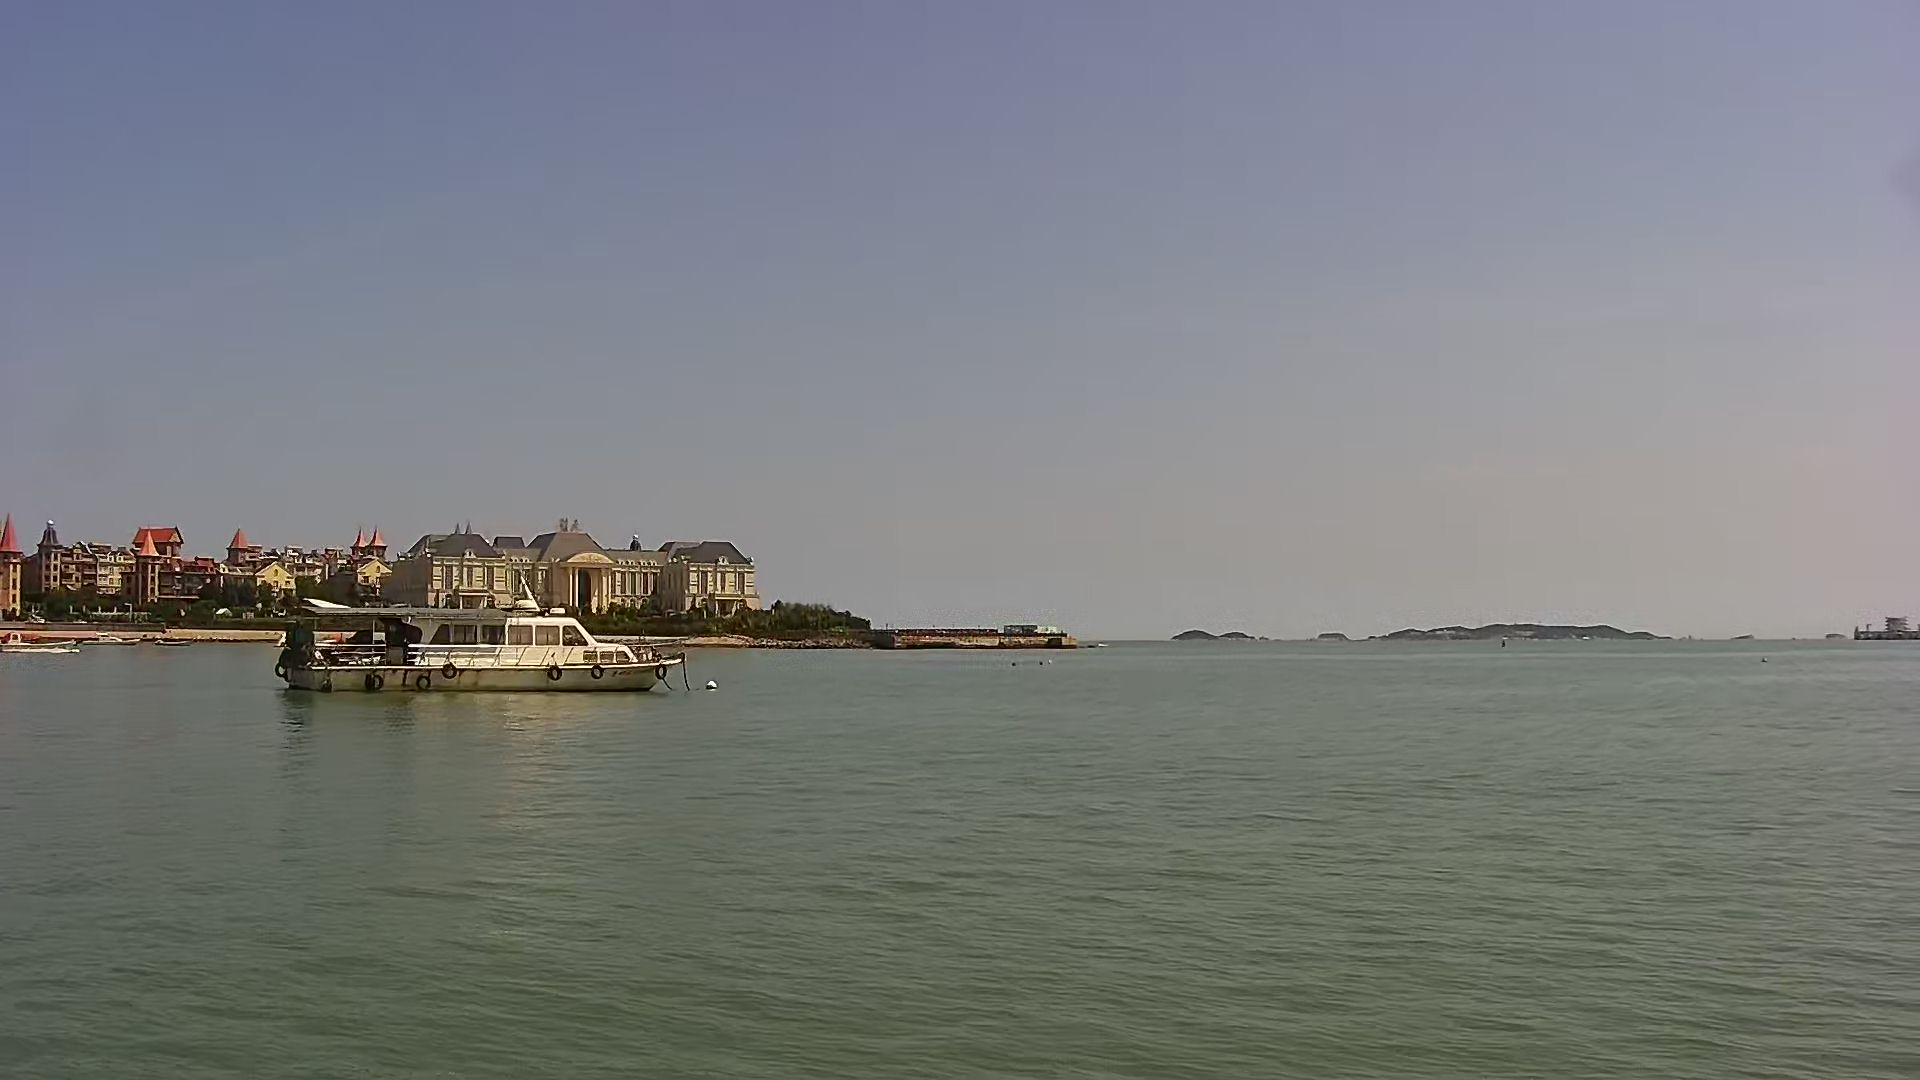ball: (703, 676, 723, 694)
boat: (1, 632, 86, 659)
ship: (274, 596, 695, 698)
